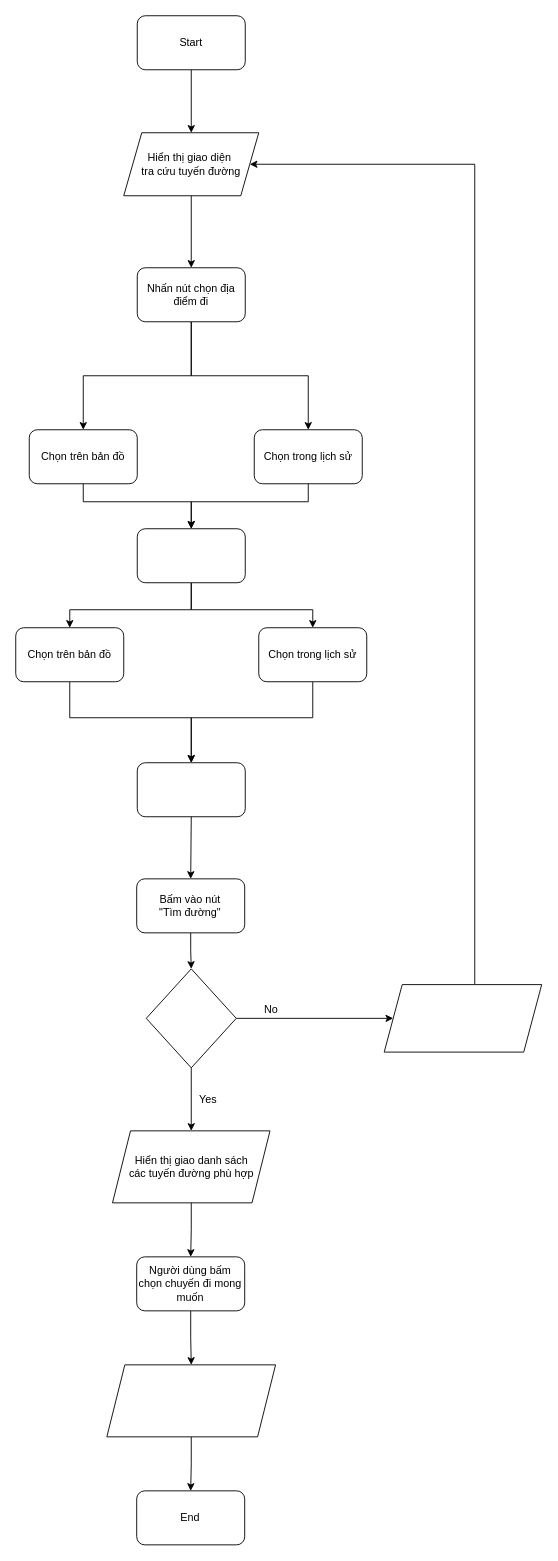
Image size: 558x1561. Some labels were removed from this diagram. Here are the shapes that lost their labels. From the top down, the centre of each, then its label:
(x=190, y=555): Nhập địa điểm đến
(x=190, y=789): Chọn số lượng chuyến tối đa
(x=190, y=1018): Tìm được đường đi phù hợp?
(x=462, y=1018): Hiển thị không có tuyến đường phù hợp.
(x=191, y=1400): Hiển thị giao diện chi tiết của tuyến đường được chọn
